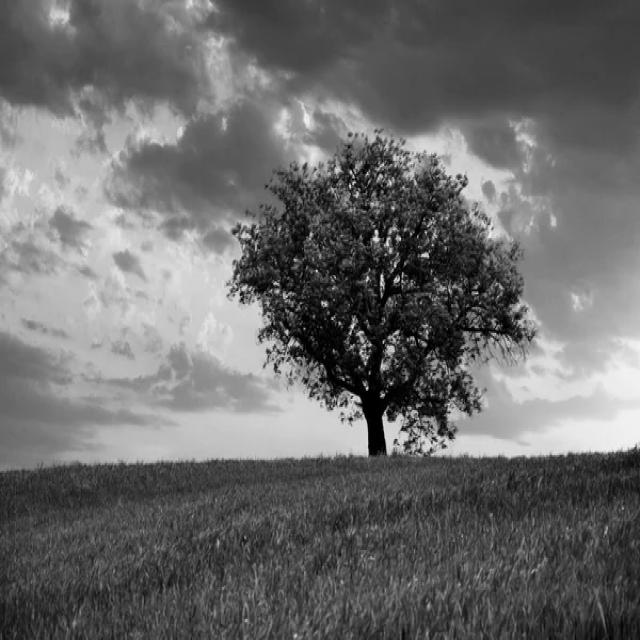Tree: (229, 132, 536, 456)
